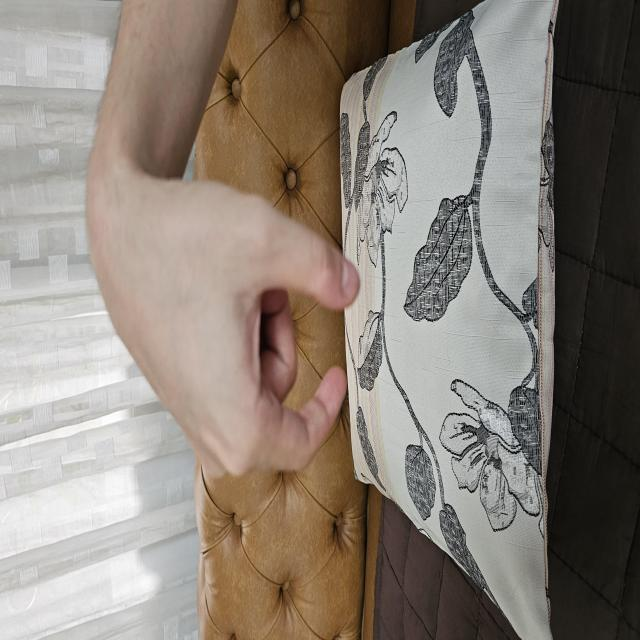Q: (158, 84, 469, 362)
